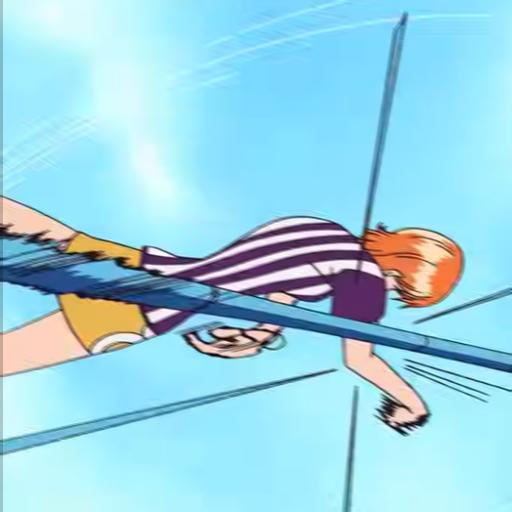Nami: (0, 188, 481, 443)
